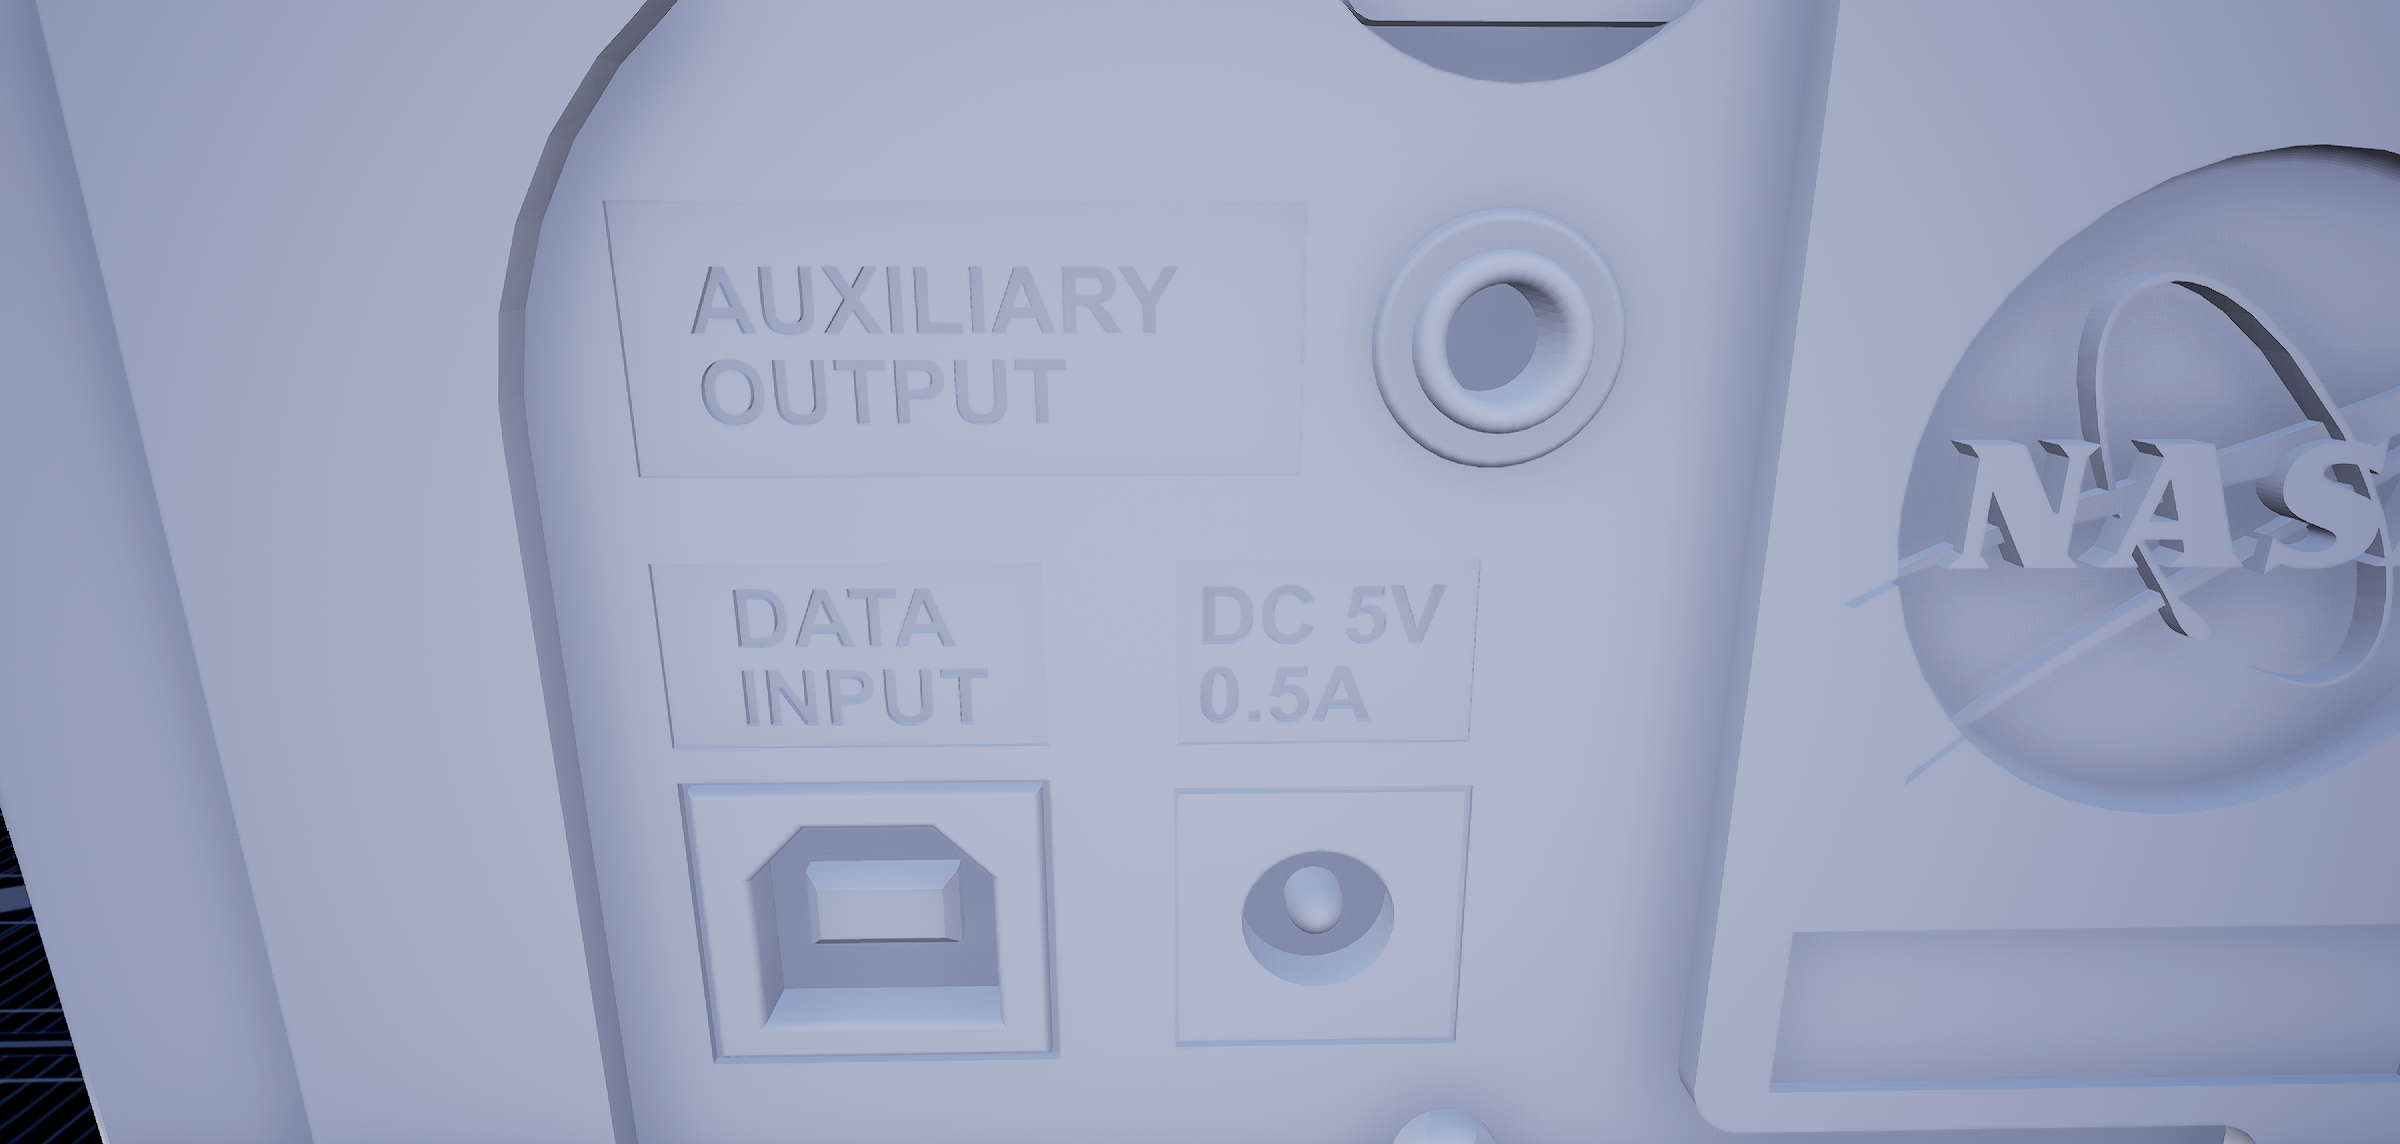aux: (1361, 208, 1639, 487)
dc: (1224, 829, 1417, 1008)
usb: (726, 815, 1024, 1041)
